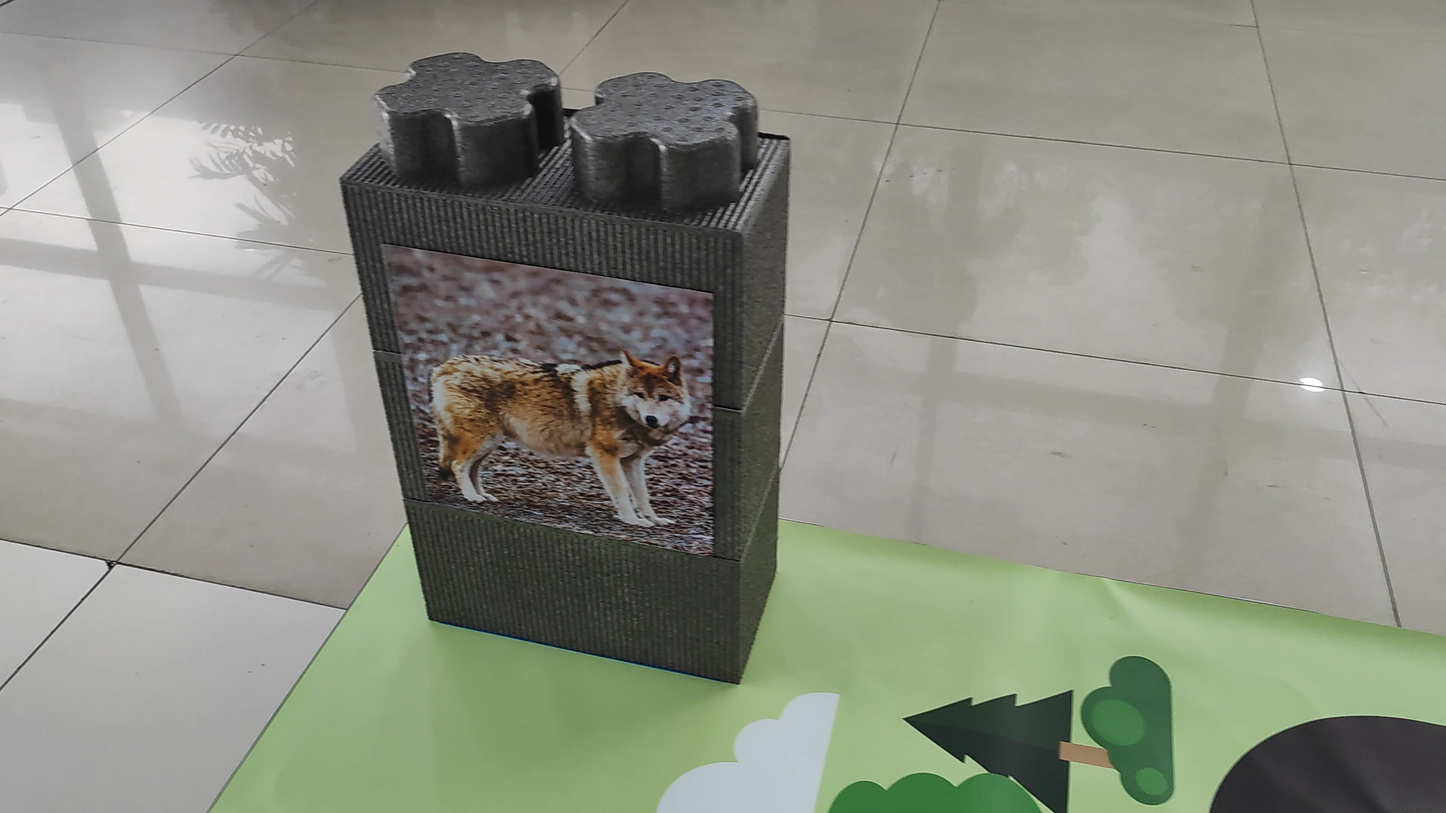wolf: (407, 306, 703, 564)
